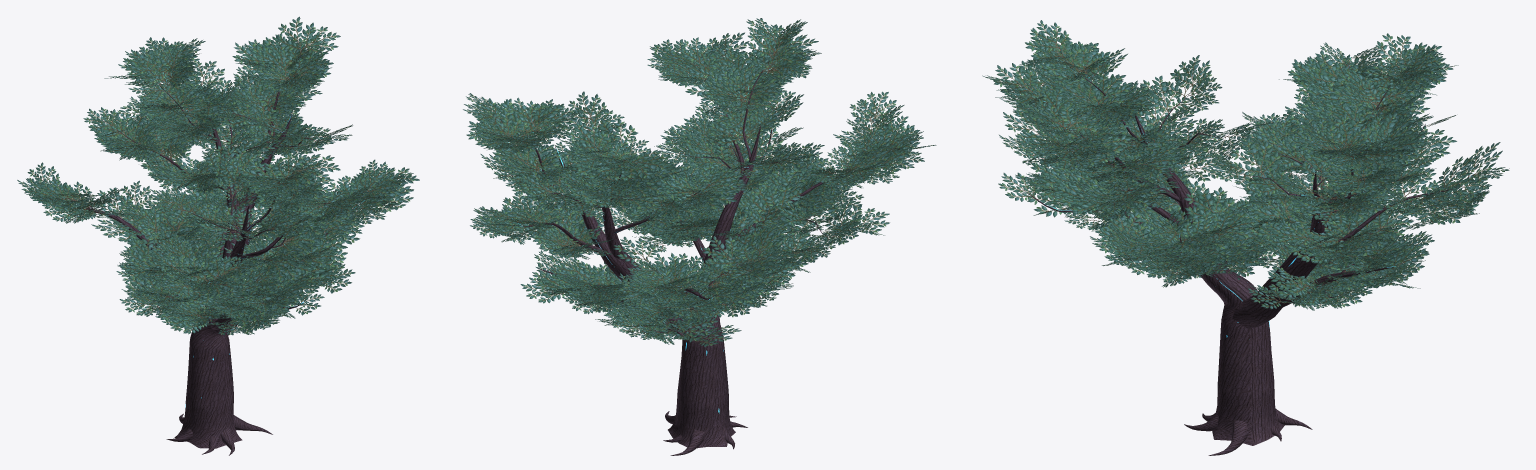
Rendered from corealm_magic_starwood.glb.
3 views of the same model, side by side, from view 1: azimuth 30°, elevation 25°; view 2: azimuth 150°, elevation 25°; view 3: azimuth 270°, elevation 25° (orthographic). The views are drawn at different scales.
Visible parts, largest first — view 1: corealm_magic_starwood; view 2: corealm_magic_starwood; view 3: corealm_magic_starwood.
Part boxes in pixels (<box>): corealm_magic_starwood: <box>17,16,419,455</box>; corealm_magic_starwood: <box>463,18,936,455</box>; corealm_magic_starwood: <box>982,20,1509,455</box>.
Bounding box in the file's own units: 11.08 × 11.03 × 13.61.
Materials: 3 (2 with a texture image).
